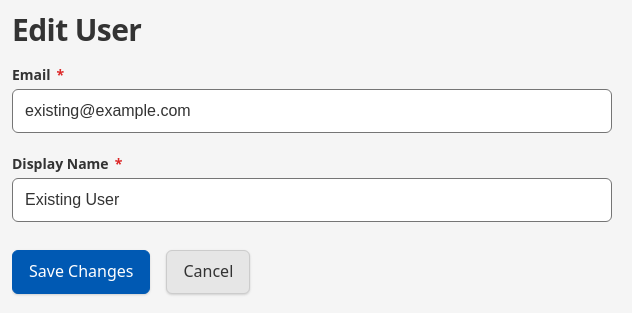
Test: UserEditPage › disables submit button while saving
Note: Update and submit
Replace the text in the field labelled "Display Name *" with "Updated User". click: (312, 200)
box: [12,178,612,222]
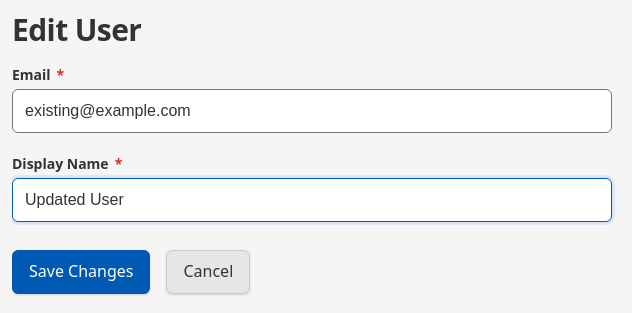
Click the button "Save Changes". click: (81, 272)
box: [12,250,150,294]
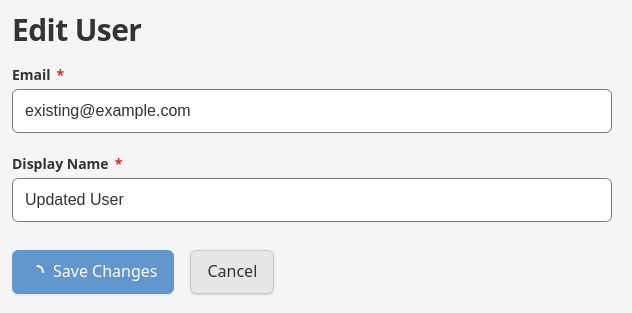
Expected: the button "Save Changes" is disabled, [12,250,174,294]
